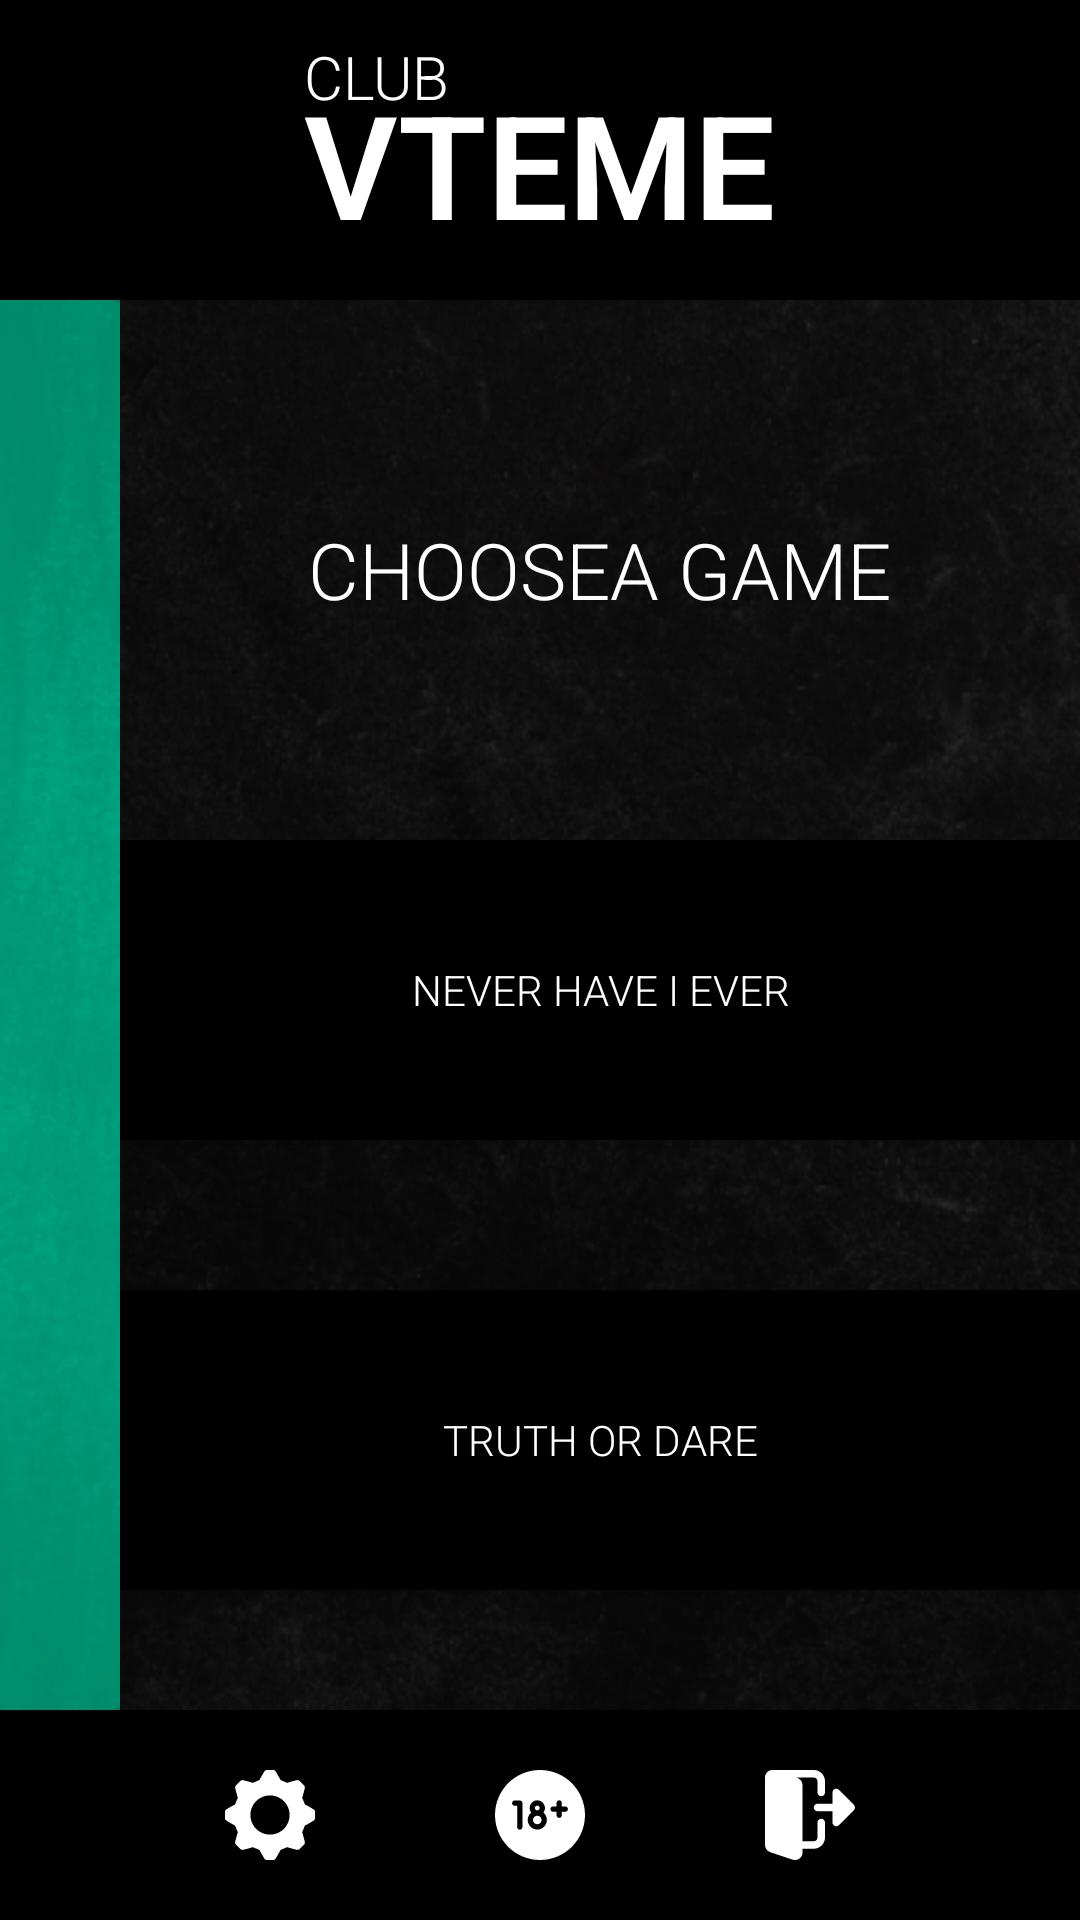

Screen size 1080 x 1920. Icon name, then its box in pixels as (x1, y1, x2, y2):
preferences: (225, 1770, 315, 1860)
